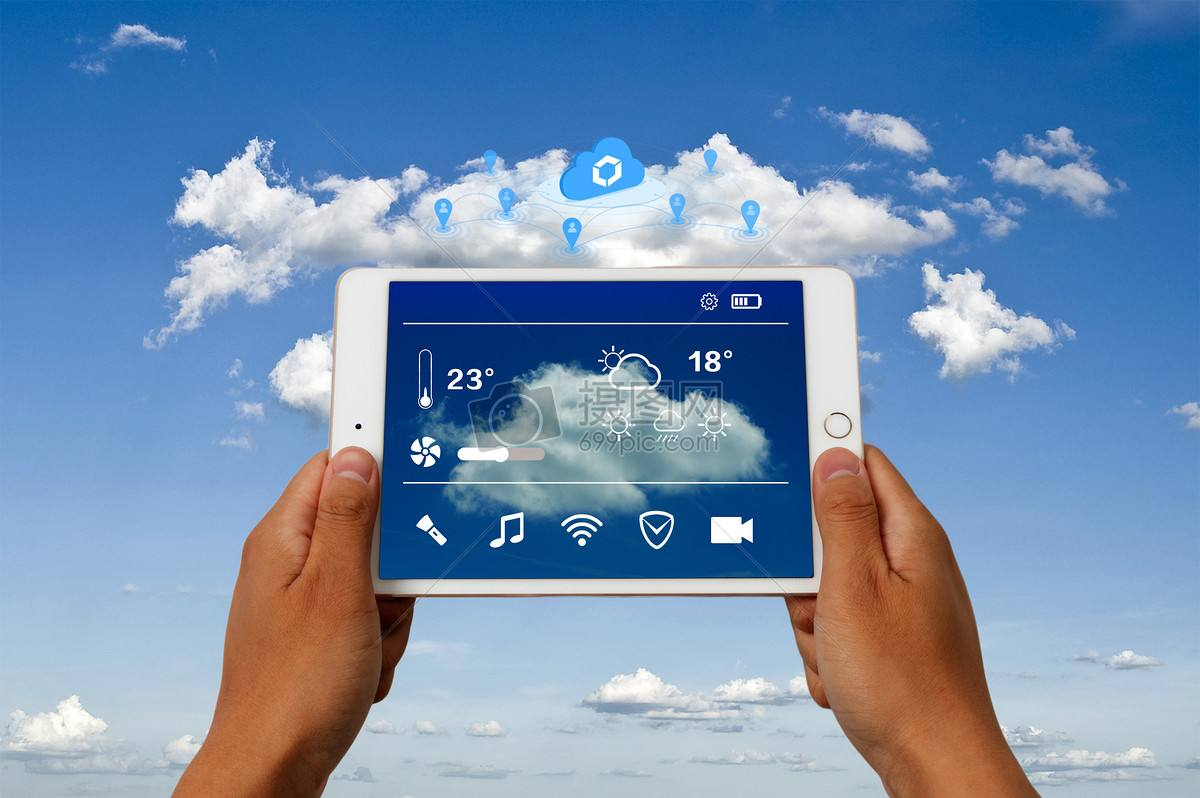pad: (254, 232, 968, 695)
